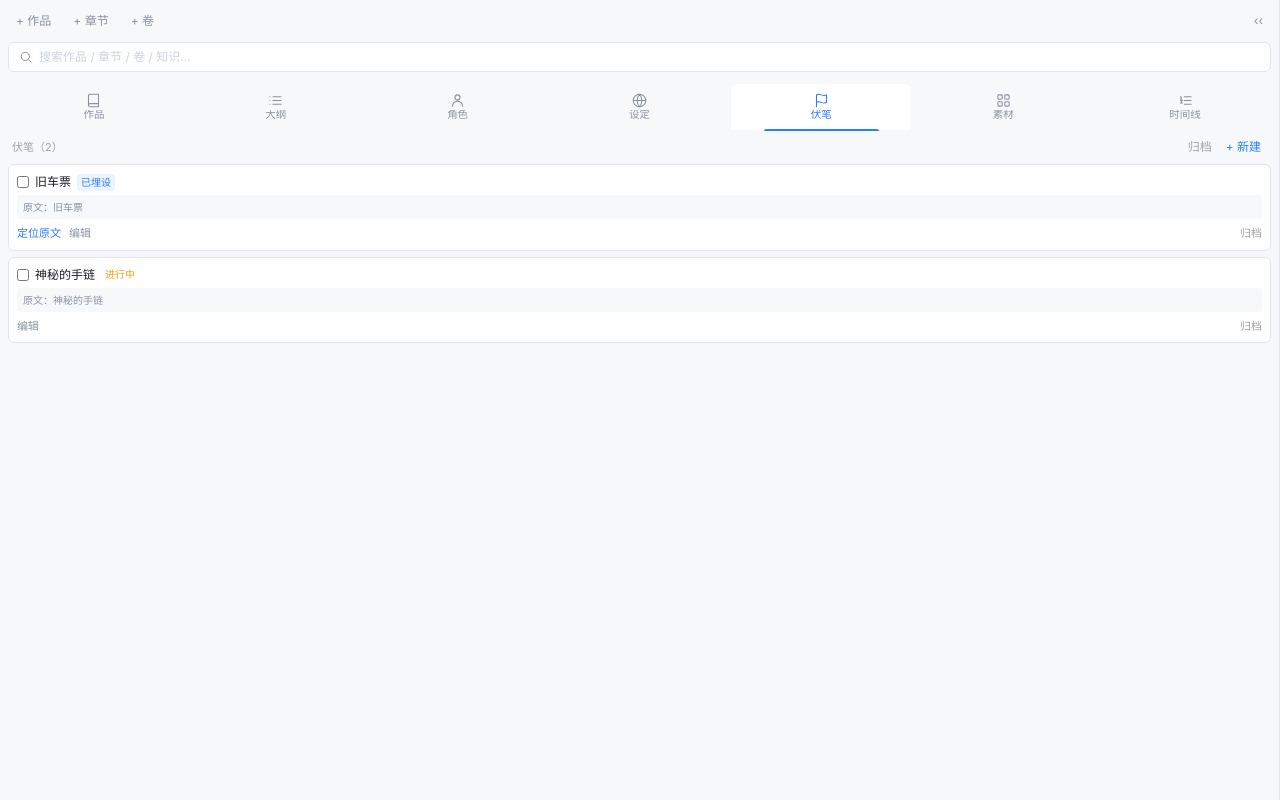
伏笔归档：单条归档 / 归档池检索 / 恢复 › 打开归档池：显示归档项、按类型筛选、恢复回到活跃列表
Click the 1st button titled "打开归档池（伏笔 / 素材统一归档管理）" at (1200, 147), box left=1182, top=136, right=1218, bottom=158
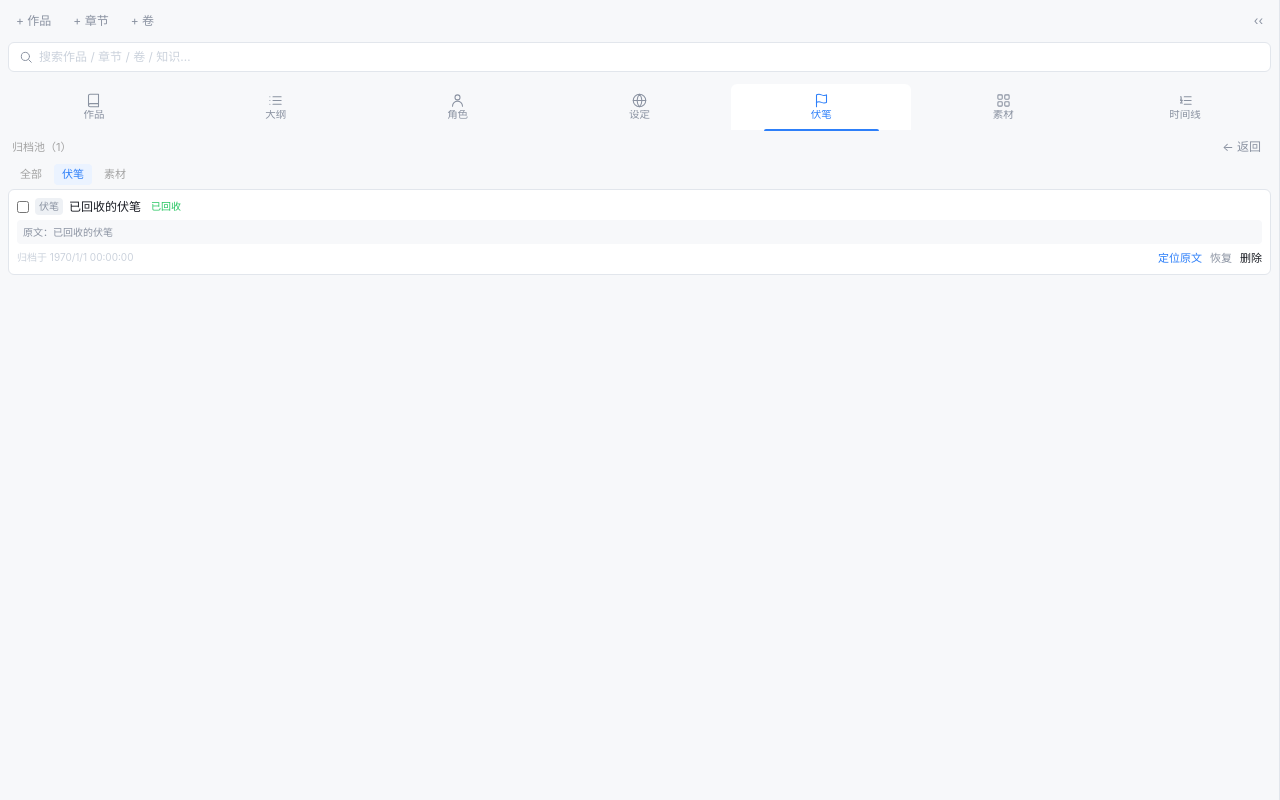
Check: the text "归档池（1）" is shown, box left=12, top=139, right=72, bottom=155
Check: the text "已回收的伏笔" is shown, box left=69, top=198, right=141, bottom=216
Check: the text "归档于 1970/1/1 00:00:00" is shown, box left=17, top=250, right=134, bottom=265
# 按内容类型筛选：切「素材」→ 归档伏笔隐藏
Click the button titled "筛选：素材" below "归档池（" at (115, 174), box left=96, top=164, right=134, bottom=184
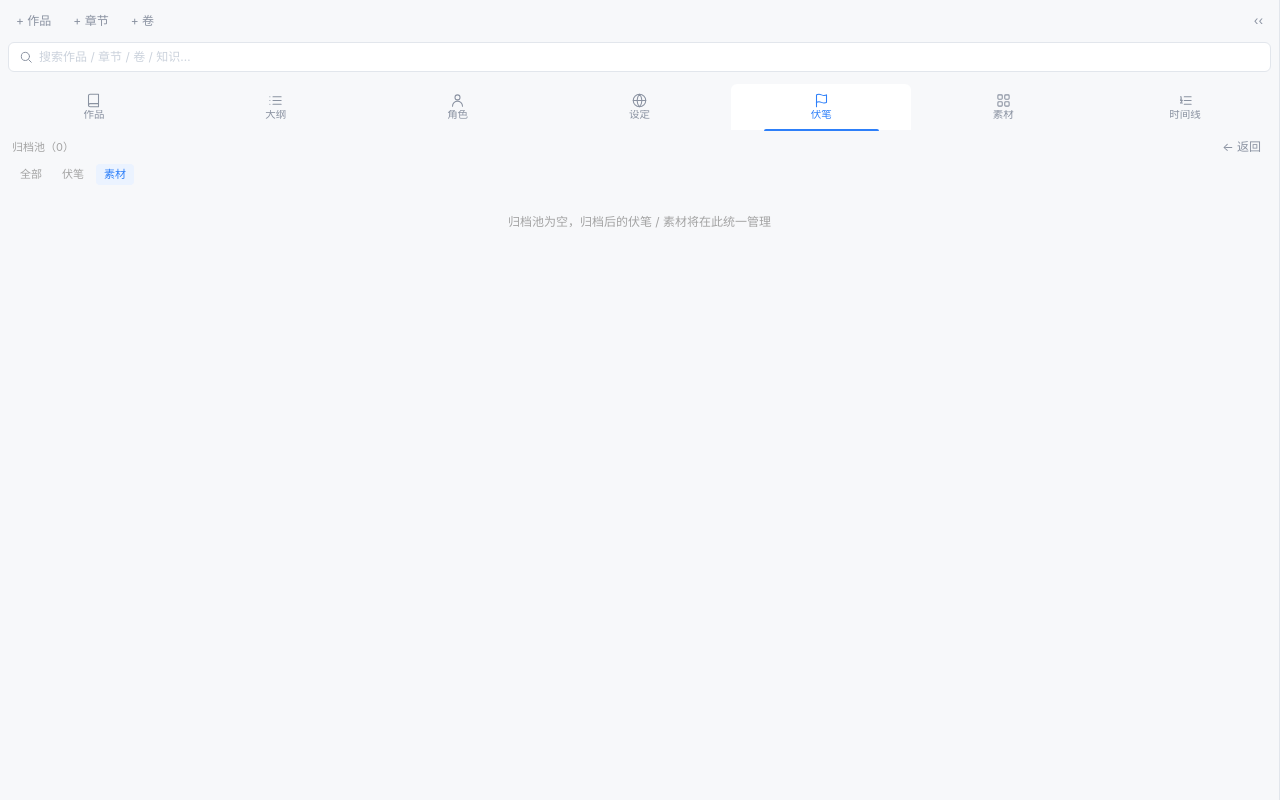
Check: the text "归档池（0）" is shown, box left=12, top=139, right=74, bottom=155
Check: the text "已回收的伏笔" is gone
# 切回「全部」→ 恢复单条
Click the button titled "筛选：全部内容" at (31, 174), box left=12, top=164, right=50, bottom=184
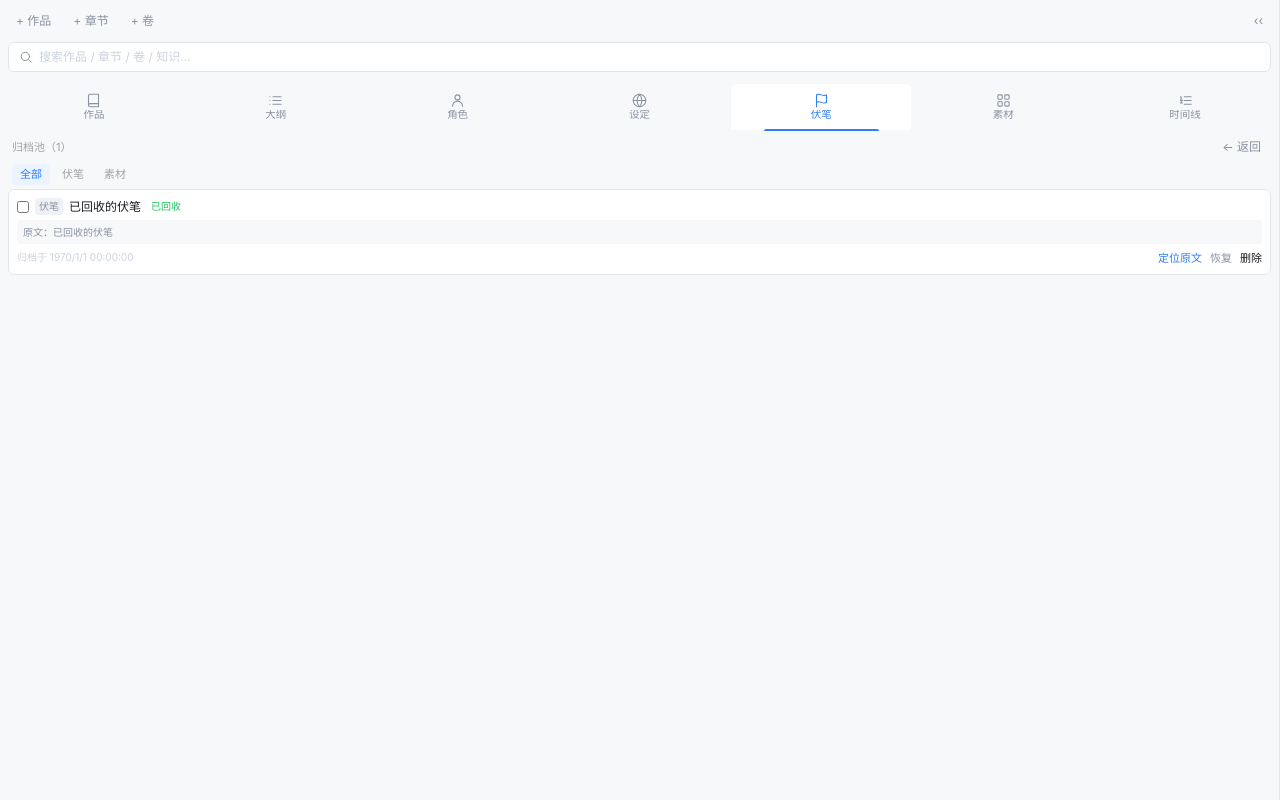
Click the button titled "恢复（回到活跃列表）" at (1221, 258), box left=1210, top=250, right=1232, bottom=266
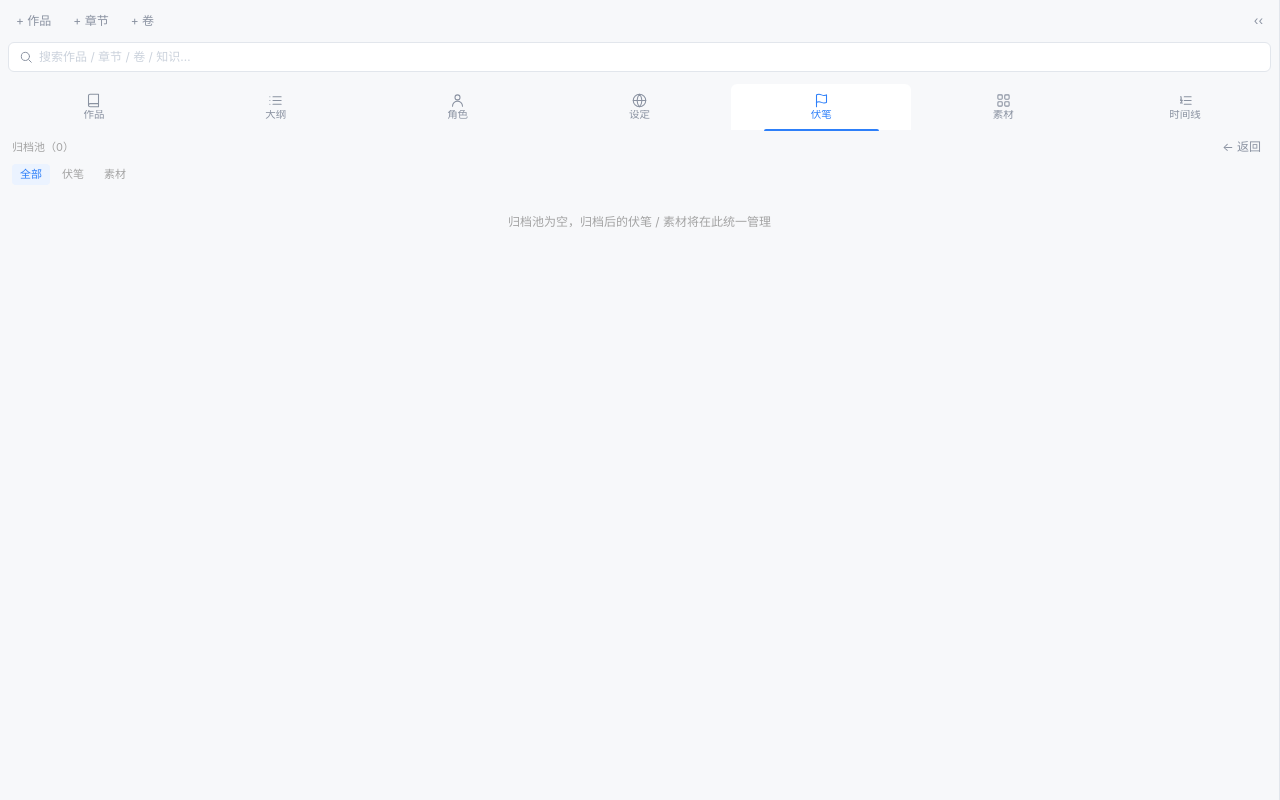
Check: the text "归档池（0）" is shown, box left=12, top=139, right=74, bottom=155
